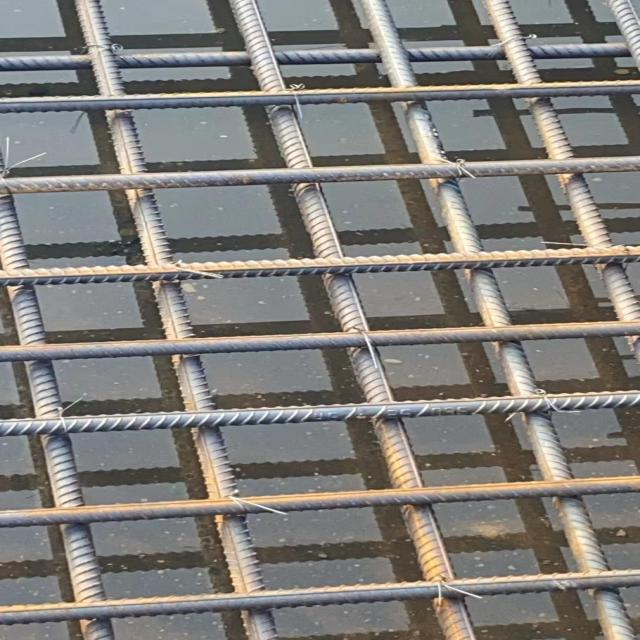ribbed bar: (354, 0, 637, 638), (228, 0, 477, 639), (72, 0, 283, 639), (0, 148, 115, 639), (484, 0, 638, 361), (0, 569, 639, 625), (0, 475, 639, 528), (0, 389, 639, 437), (0, 245, 639, 287), (0, 320, 639, 362), (0, 155, 639, 194), (0, 78, 639, 114), (0, 42, 631, 69), (602, 0, 638, 70)
